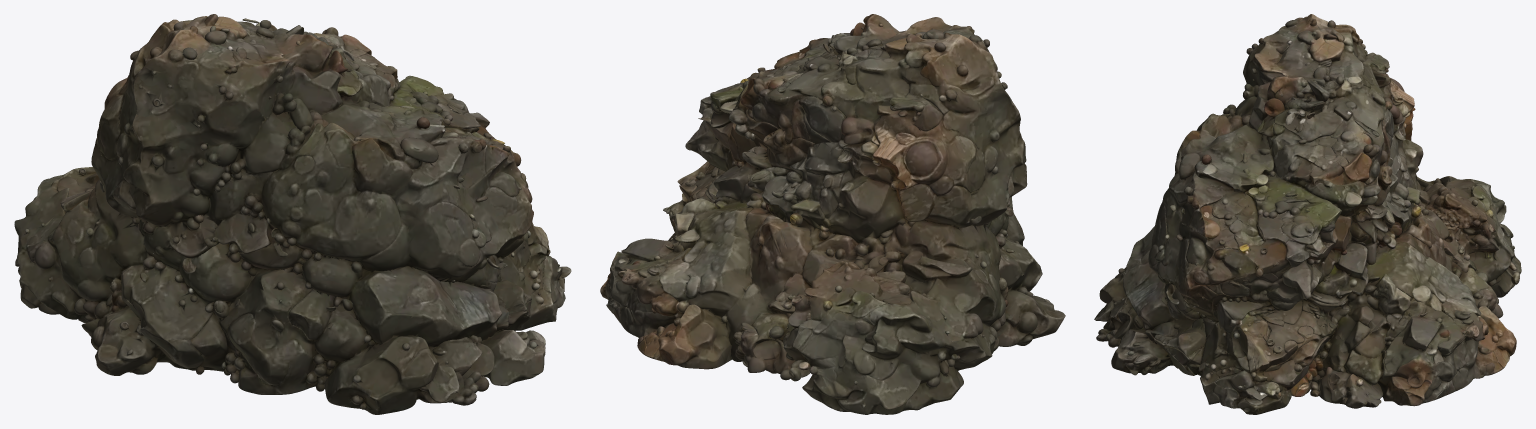
The model's file is rocky-outcrop.glb.
3 renders of one model, left to right at view 1: azimuth 30°, elevation 25°; view 2: azimuth 150°, elevation 25°; view 3: azimuth 270°, elevation 25°, orthographic. The views are drawn at different scales.
Visible parts, largest first — view 1: tripo_node_54fabb46-d1d2-4adc-9c12-63d8aa9704d2; view 2: tripo_node_54fabb46-d1d2-4adc-9c12-63d8aa9704d2; view 3: tripo_node_54fabb46-d1d2-4adc-9c12-63d8aa9704d2.
Part boxes in pixels (x1,y1,x2,y2): tripo_node_54fabb46-d1d2-4adc-9c12-63d8aa9704d2: (14, 14, 571, 414); tripo_node_54fabb46-d1d2-4adc-9c12-63d8aa9704d2: (600, 14, 1065, 414); tripo_node_54fabb46-d1d2-4adc-9c12-63d8aa9704d2: (1094, 14, 1521, 414).
Size of the model in its own units: 0.9805 by 0.6641 by 0.9715.
Materials: 1 (1 with a texture image).
